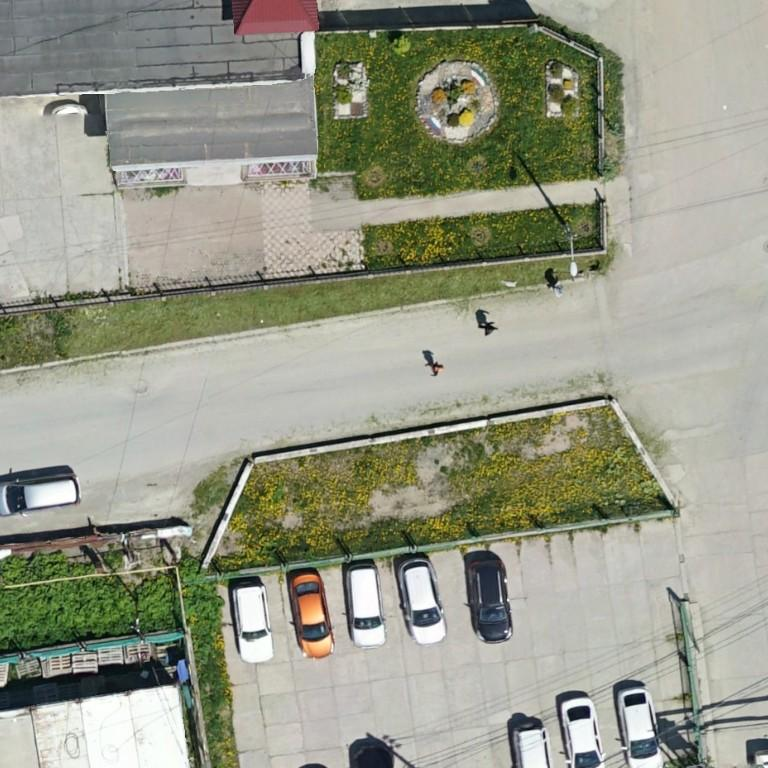hogweed: (0, 574, 176, 652), (184, 582, 238, 767), (0, 554, 94, 583), (180, 557, 200, 577)
